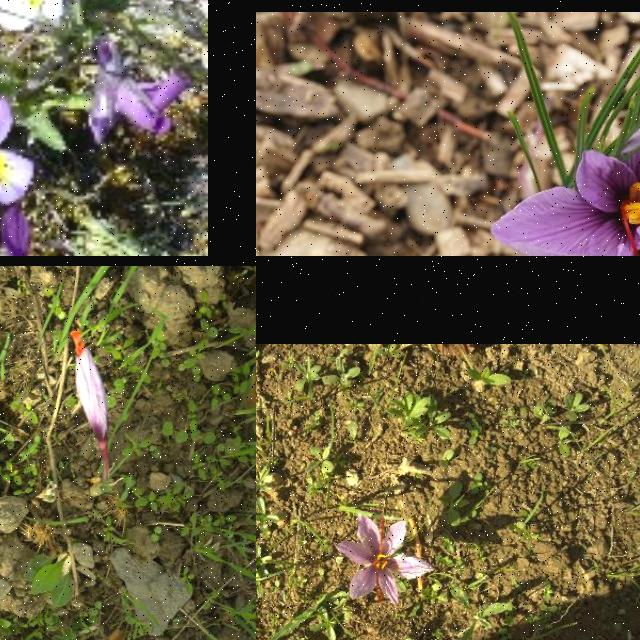flower: (491, 88, 640, 256), (334, 514, 436, 608), (70, 330, 110, 454)
